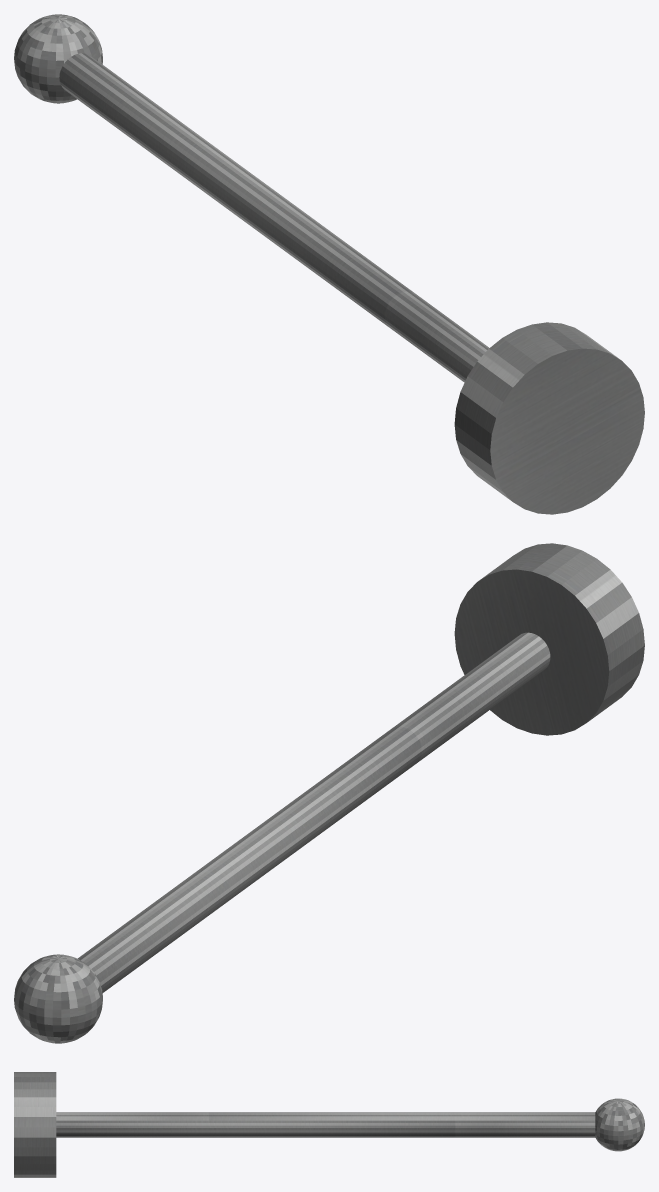
Rendered from antenna.glb.
3 views of the same model, one above another, from view 1: azimuth 30°, elevation 25°; view 2: azimuth 150°, elevation 25°; view 3: azimuth 270°, elevation 25° (orthographic). The views are drawn at different scales.
Parts seen in each view (by area): view 1: Cylinder; view 2: Cylinder; view 3: Cylinder.
Boxes of the visible parts, x1,y1,x2,y2 form: Cylinder: (14, 14, 644, 514); Cylinder: (14, 543, 644, 1043); Cylinder: (14, 1072, 644, 1177).
Size of the model in its own units: 0.1 by 0.1 by 0.595.
Materials: 1 (1 with a texture image).
